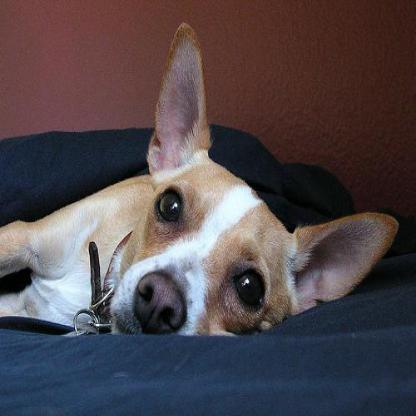dog: (0, 20, 402, 344)
